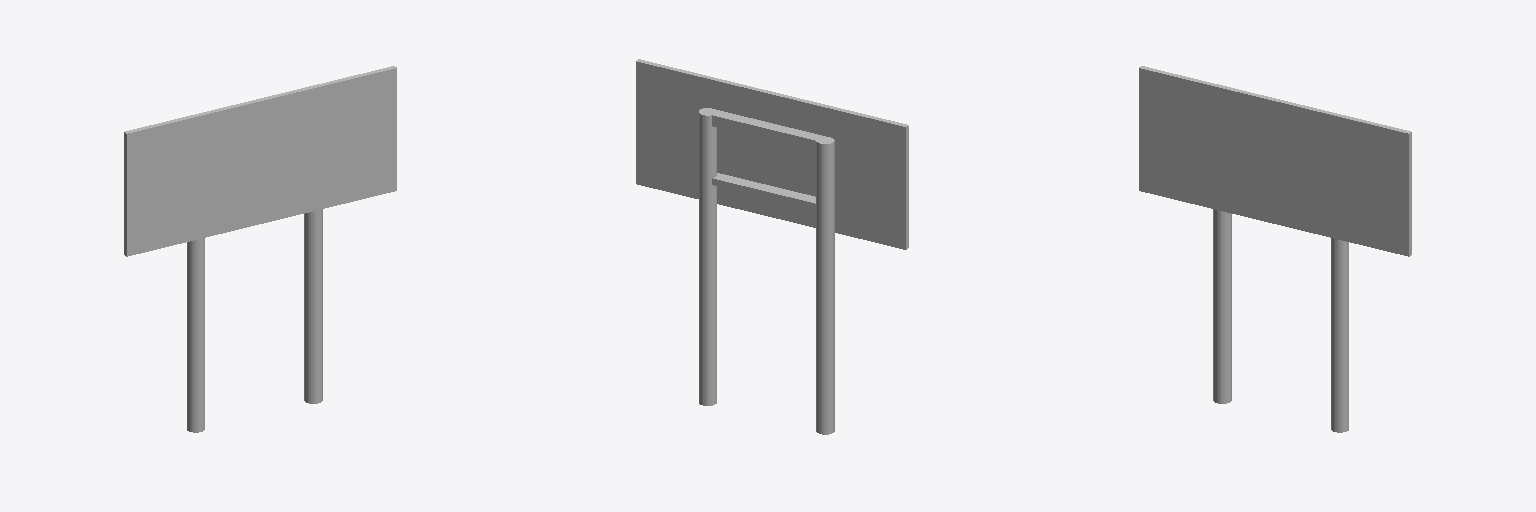
File: Panneau.obj
3 views of the same model, side by side, from view 1: azimuth 30°, elevation 25°; view 2: azimuth 150°, elevation 25°; view 3: azimuth 330°, elevation 25° (orthographic).
Parts seen in each view (by area): view 1: Cylinder; view 2: Cylinder; view 3: Cylinder.
Part boxes in pixels (bbox=[...]): Cylinder: bbox=[124, 66, 396, 432]; Cylinder: bbox=[636, 59, 908, 434]; Cylinder: bbox=[1139, 66, 1411, 432].
Size of the model in its own units: 4.22 by 4.76 by 0.3259.